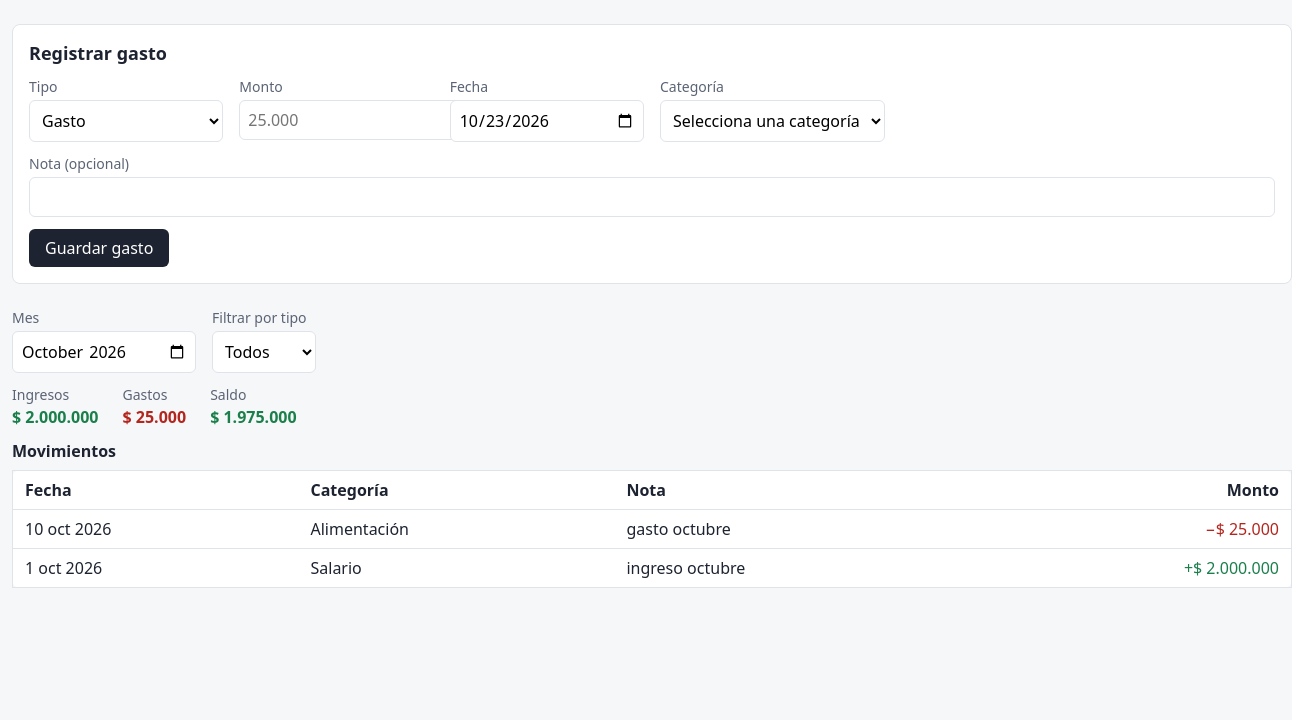
it: TransactionsPage · period filter (RDF-9) › shows the movements of another month when it is selected
This screenshot has width=1292, height=720.
Check: the text "gasto octubre" is shown, box [614,510,983,548]
Replace the text in the field labelled "Mes" with "2026-09". click: (104, 352)
box: [12,331,196,373]
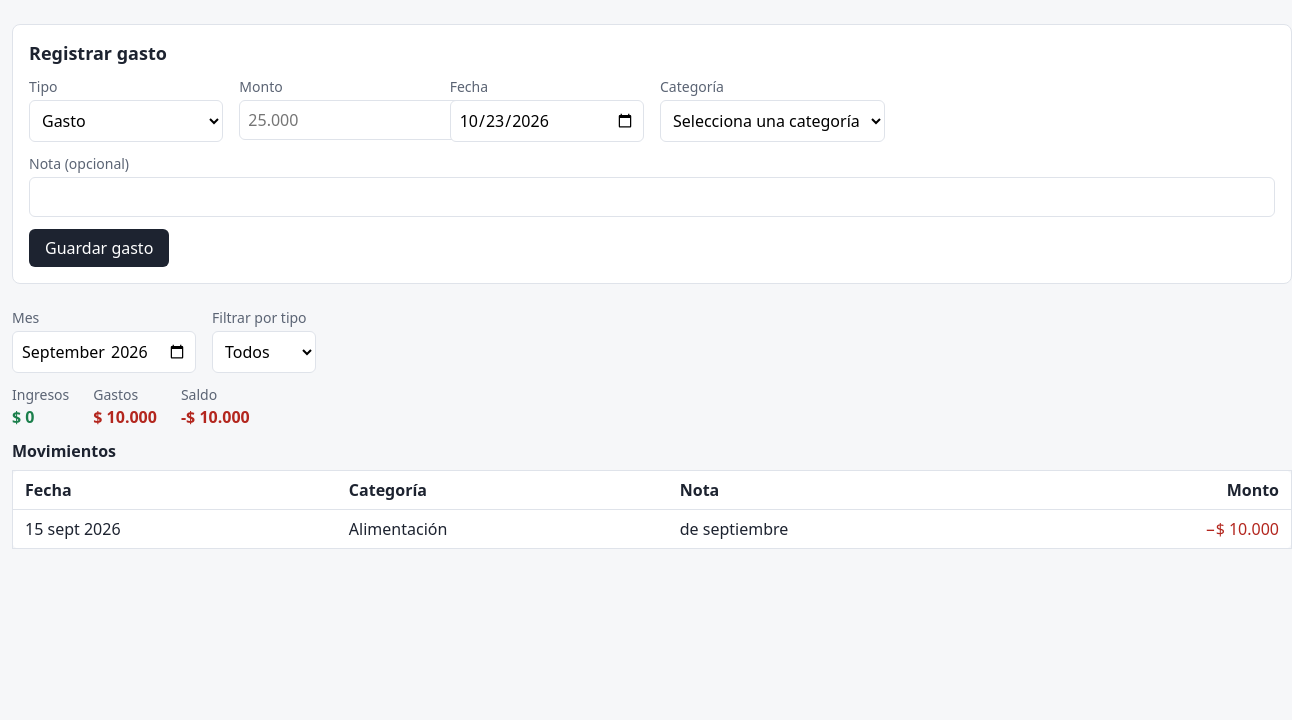
Check: the text "de septiembre" is shown, box [668,510,1026,548]
Check: the text "gasto octubre" is gone
